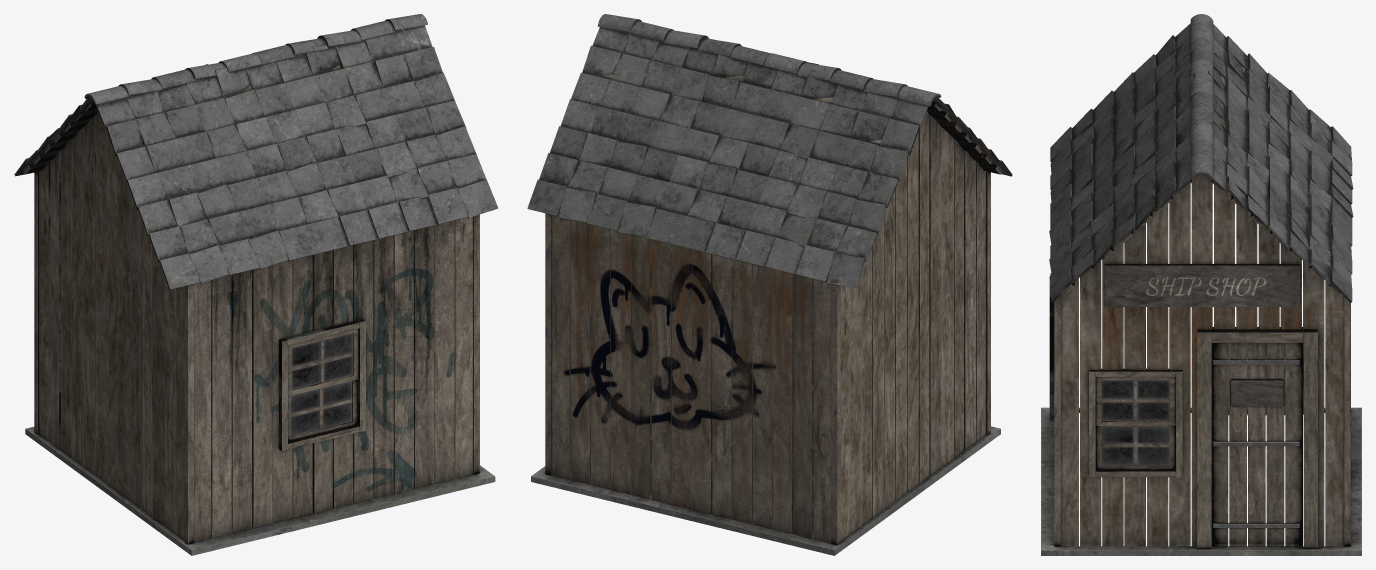
File: Nha_6.fbx
3 renders of one model, left to right at view 1: azimuth 30°, elevation 25°; view 2: azimuth 150°, elevation 25°; view 3: azimuth 270°, elevation 25°, orthographic. The views are drawn at different scales.
Parts seen in each view (by area): view 1: defaultMaterial.001; view 2: defaultMaterial.001; view 3: defaultMaterial.001.
Part boxes in pixels (box(x1,y1,x2,y2)): defaultMaterial.001: box(14, 14, 498, 555); defaultMaterial.001: box(527, 14, 1012, 555); defaultMaterial.001: box(1041, 14, 1361, 555).
Size of the model in its own units: 6497 by 7577 by 5623.
5 materials, 5 textured.
